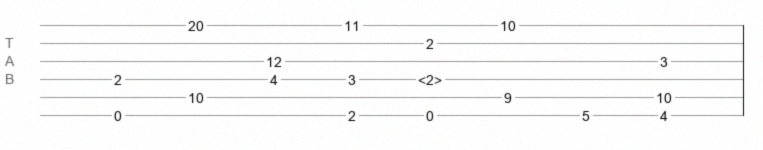0: (114, 108, 122, 118), (426, 108, 434, 118)
10: (188, 90, 204, 100), (500, 18, 516, 28), (656, 90, 672, 100)
11: (344, 18, 360, 28)
12: (266, 54, 282, 64)
2: (114, 72, 122, 82), (348, 108, 356, 118), (426, 36, 434, 46)
20: (188, 18, 204, 28)
3: (348, 72, 356, 82), (660, 54, 668, 64)
4: (270, 72, 278, 82), (660, 108, 668, 118)
5: (582, 108, 590, 118)
9: (504, 90, 512, 100)
harmonic: (418, 72, 442, 82)
